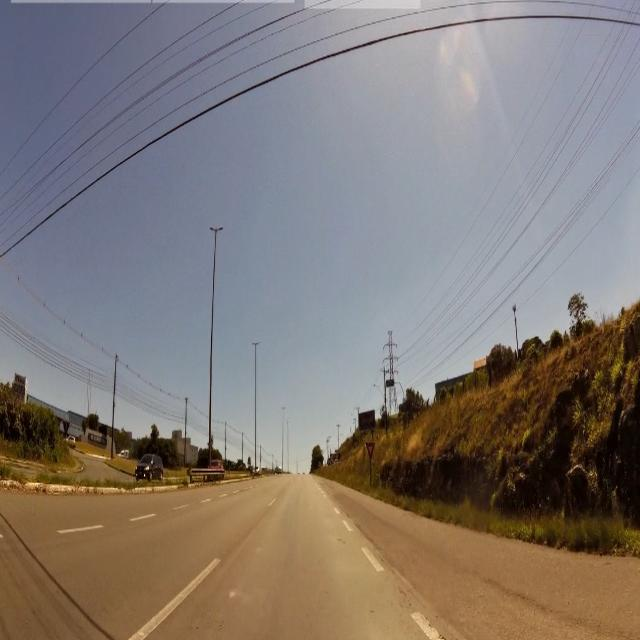R-2: (366, 442, 376, 459)
